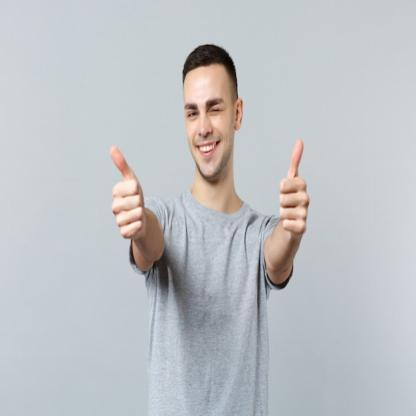thumb_up: (104, 142, 148, 244), (278, 138, 312, 240)
